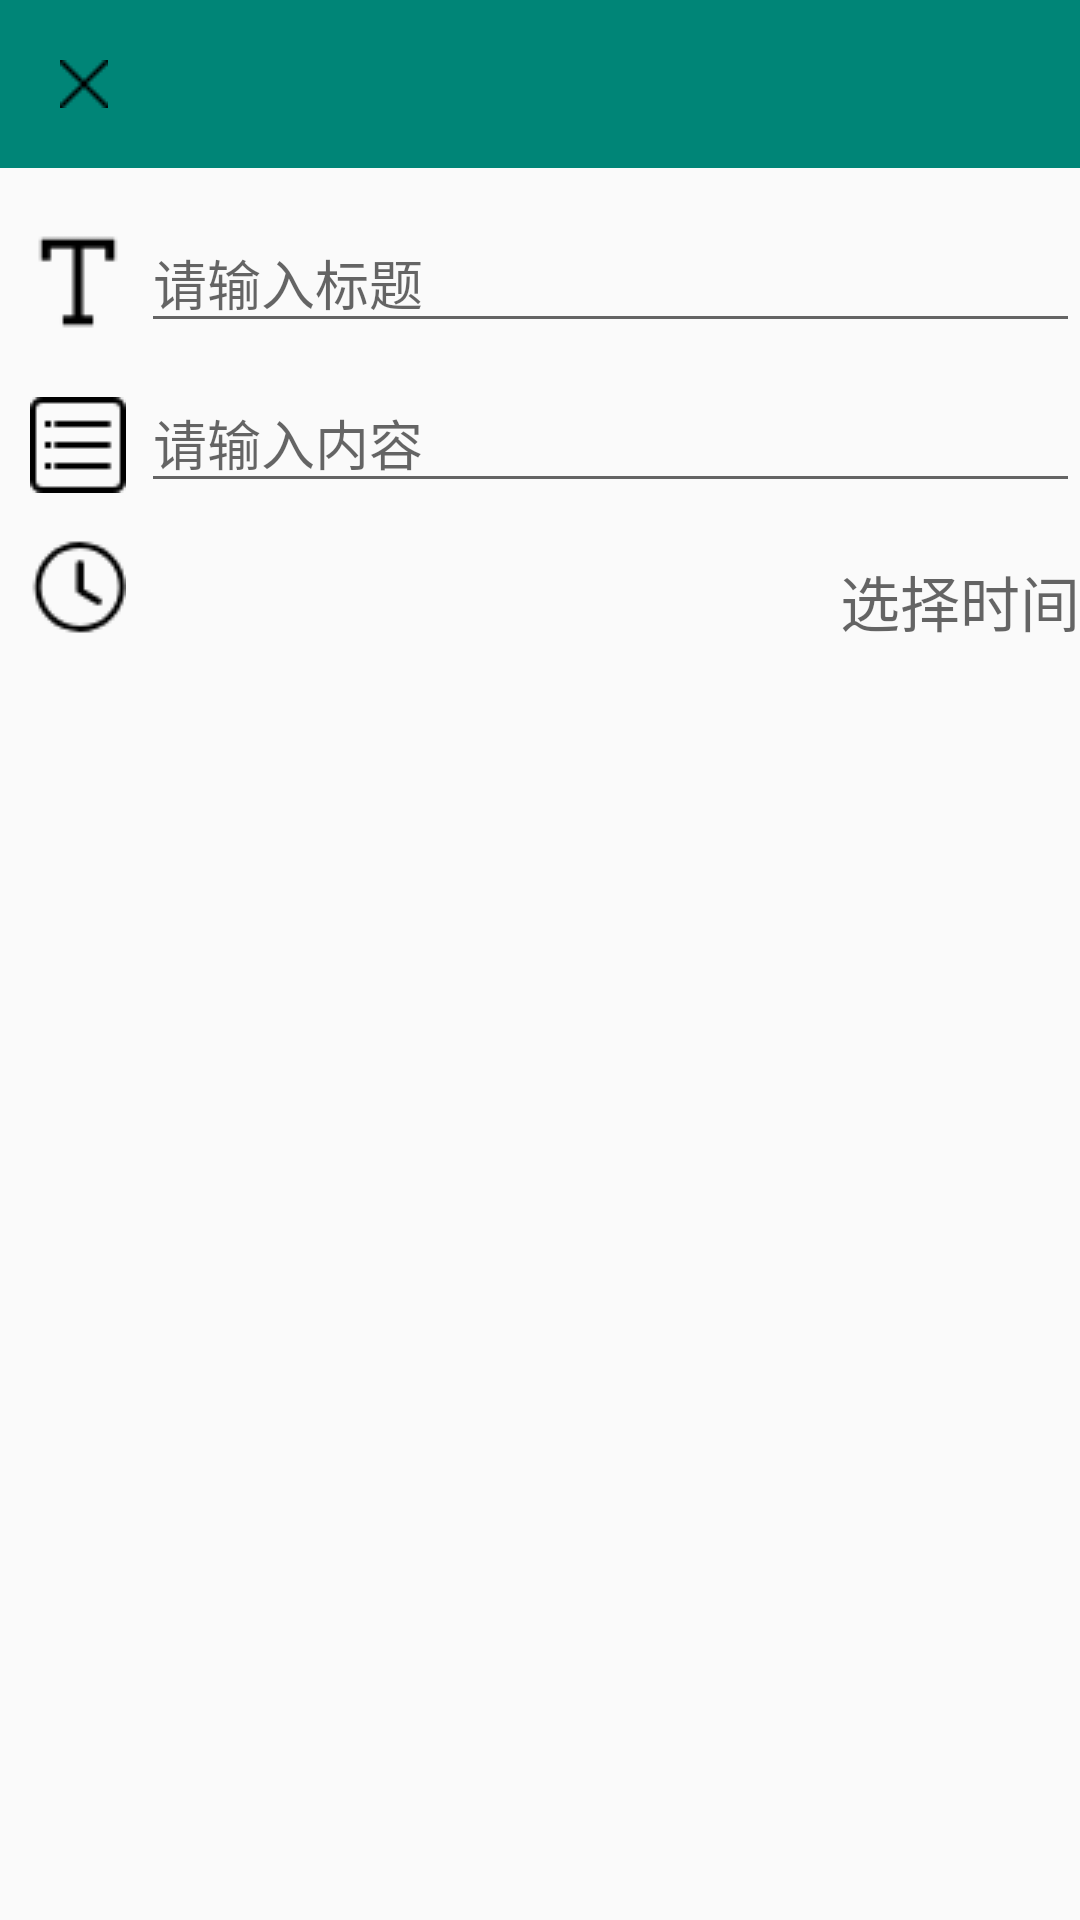

Screen size 1080 x 1920. Icon name, then its box in pixels as (x1, y1, x2, y2):
content: (30, 397, 126, 493)
time: (33, 541, 126, 633)
title: (39, 237, 117, 327)
